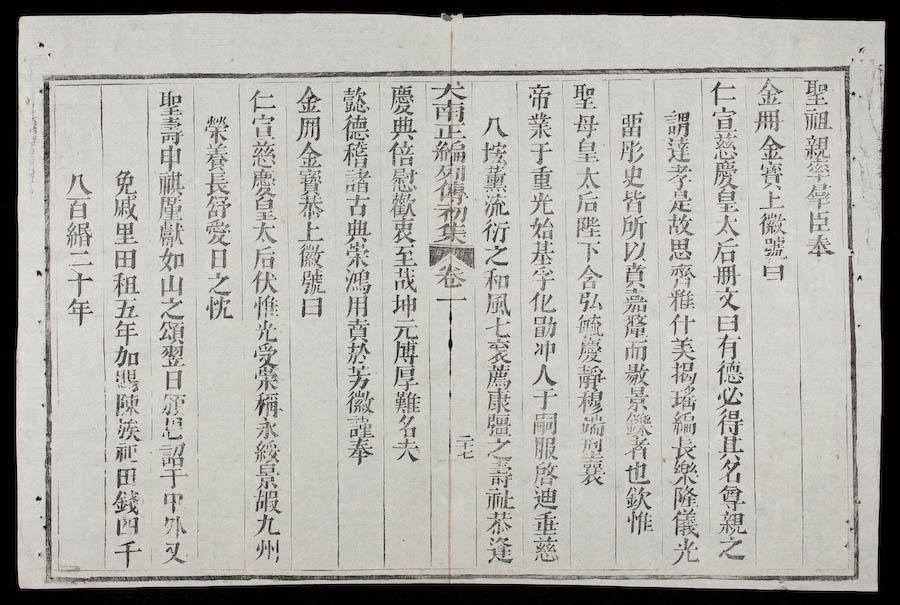c: (386, 83, 418, 116), (799, 77, 833, 107), (752, 77, 786, 107), (429, 140, 469, 165), (432, 263, 469, 290), (344, 435, 377, 465), (669, 507, 702, 537), (339, 84, 372, 114), (482, 535, 516, 564), (434, 294, 469, 322), (293, 84, 324, 115), (568, 81, 600, 111), (483, 457, 516, 486), (661, 108, 694, 137), (668, 537, 702, 565), (62, 297, 96, 325), (201, 113, 232, 143), (111, 539, 143, 568), (524, 111, 556, 140), (390, 435, 423, 463), (62, 221, 95, 249), (707, 79, 740, 107), (714, 509, 748, 536), (430, 100, 468, 124), (616, 110, 647, 139), (709, 132, 741, 160), (248, 193, 280, 221), (248, 140, 280, 168), (713, 407, 746, 434), (110, 488, 143, 515), (802, 182, 835, 209), (575, 460, 608, 487), (339, 114, 372, 141), (574, 363, 607, 390), (386, 192, 419, 219), (390, 389, 424, 415), (752, 108, 786, 134), (479, 165, 510, 193), (155, 89, 186, 117), (756, 161, 787, 189), (524, 82, 555, 110), (201, 143, 232, 171), (666, 262, 698, 289), (529, 509, 561, 536), (252, 391, 284, 418), (715, 483, 747, 510), (483, 337, 515, 364), (574, 336, 606, 363), (109, 271, 141, 298), (429, 81, 470, 102), (754, 135, 787, 161), (529, 536, 562, 562), (251, 537, 284, 563), (756, 211, 789, 237), (202, 295, 235, 321), (339, 142, 372, 168), (433, 222, 470, 245), (343, 390, 377, 415), (714, 536, 748, 561), (803, 234, 837, 259), (110, 167, 139, 196), (710, 161, 741, 188), (155, 118, 186, 145), (158, 539, 189, 566), (343, 364, 374, 391), (202, 219, 233, 246), (294, 142, 325, 169), (246, 87, 278, 113), (667, 385, 699, 411), (294, 194, 326, 220), (341, 268, 373, 294), (801, 134, 833, 160), (251, 488, 283, 514), (63, 270, 95, 296), (483, 363, 515, 389), (623, 509, 655, 535), (248, 169, 280, 195), (294, 169, 326, 195), (662, 137, 694, 163), (713, 359, 745, 385), (478, 140, 510, 166), (386, 141, 418, 167), (155, 221, 187, 247), (433, 181, 469, 204), (574, 389, 607, 414), (621, 411, 654, 436), (800, 108, 833, 133), (340, 169, 373, 194), (482, 486, 516, 510), (620, 262, 649, 290), (527, 240, 557, 267), (715, 457, 745, 484), (297, 269, 327, 296), (621, 385, 652, 411), (248, 113, 279, 139), (479, 113, 510, 139), (342, 243, 373, 269), (668, 434, 699, 460), (529, 460, 560, 486), (529, 435, 560, 461), (709, 107, 740, 133), (63, 170, 94, 196), (113, 417, 144, 443), (570, 112, 601, 138), (389, 267, 420, 293), (618, 214, 649, 240), (155, 170, 186, 196), (295, 243, 326, 269), (663, 164, 695, 189), (483, 388, 515, 413), (250, 439, 282, 464), (249, 270, 281, 295), (154, 145, 186, 170), (387, 168, 419, 193), (482, 292, 514, 317), (386, 116, 418, 141), (155, 248, 187, 273), (344, 417, 377, 441), (294, 115, 323, 142), (711, 238, 741, 264), (620, 314, 650, 340), (110, 220, 140, 246), (574, 264, 604, 290), (713, 333, 743, 359), (712, 188, 742, 214), (157, 416, 187, 442), (111, 319, 141, 345), (388, 218, 418, 244), (112, 392, 143, 417), (665, 189, 696, 214), (390, 340, 421, 365), (157, 344, 188, 369), (668, 410, 699, 435), (571, 139, 602, 164), (249, 245, 280, 270), (667, 336, 698, 361), (804, 209, 835, 234), (251, 463, 282, 488), (714, 434, 745, 459), (670, 459, 701, 484), (622, 435, 653, 460), (251, 367, 282, 392), (390, 365, 421, 390), (155, 196, 186, 221), (202, 195, 233, 220), (389, 293, 420, 318), (480, 194, 511, 219), (572, 166, 603, 191), (616, 139, 647, 164), (526, 192, 557, 217), (480, 219, 511, 244), (156, 320, 188, 344), (110, 345, 142, 369), (665, 288, 697, 312), (156, 442, 188, 466), (529, 485, 561, 509), (483, 412, 515, 436), (483, 510, 515, 534), (251, 513, 283, 537), (480, 268, 512, 292), (297, 295, 327, 320), (110, 196, 140, 221), (527, 216, 557, 241), (202, 171, 232, 196), (204, 271, 234, 296), (619, 289, 649, 314), (159, 514, 189, 539), (576, 435, 606, 460), (759, 236, 789, 261), (712, 286, 742, 311), (342, 218, 372, 243), (666, 237, 696, 262), (251, 295, 281, 320), (529, 315, 559, 340), (573, 215, 603, 240), (63, 196, 94, 220), (574, 313, 605, 337), (390, 318, 421, 342), (666, 312, 697, 336), (484, 435, 515, 459), (158, 392, 189, 416), (669, 484, 700, 508), (622, 485, 653, 509), (529, 411, 560, 435), (112, 368, 143, 392), (668, 361, 699, 385), (665, 213, 696, 237), (433, 203, 470, 223), (528, 266, 557, 291), (392, 414, 421, 439), (619, 189, 648, 214), (623, 459, 652, 484), (526, 166, 555, 191), (530, 362, 559, 387), (157, 297, 187, 321), (712, 214, 742, 238), (342, 194, 372, 218), (158, 489, 188, 513), (530, 387, 560, 411), (621, 361, 651, 385), (481, 244, 511, 268), (527, 291, 558, 314), (714, 385, 745, 408), (249, 221, 280, 244), (483, 316, 514, 339), (574, 290, 605, 313), (710, 264, 741, 287), (802, 160, 834, 182), (431, 164, 470, 182), (618, 165, 647, 189), (110, 247, 139, 271), (526, 141, 555, 165), (157, 273, 186, 297), (251, 343, 280, 367), (573, 191, 602, 215), (619, 239, 649, 262), (252, 417, 282, 440), (576, 414, 607, 436), (112, 515, 143, 537), (110, 298, 141, 320), (429, 123, 469, 140), (344, 319, 372, 343), (113, 464, 141, 488), (343, 295, 371, 319), (296, 220, 325, 243), (574, 240, 603, 263), (344, 342, 373, 365), (112, 442, 142, 464), (620, 340, 650, 362), (756, 190, 787, 211), (453, 434, 476, 462), (252, 320, 280, 343), (390, 245, 419, 267), (759, 262, 788, 284), (530, 340, 559, 362), (158, 467, 188, 488), (205, 247, 232, 270), (160, 368, 187, 391), (64, 250, 95, 269), (713, 312, 741, 333)
